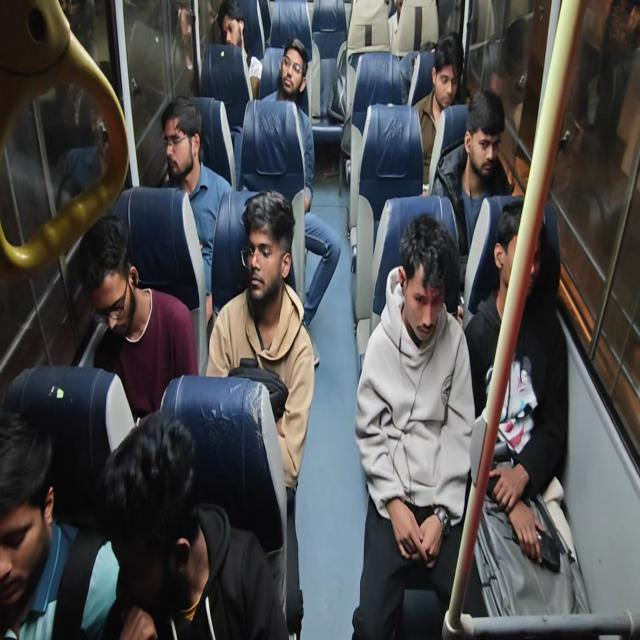person: (351, 213, 476, 638), (462, 199, 584, 616), (205, 189, 315, 636), (99, 409, 290, 639), (0, 408, 121, 639), (78, 213, 198, 423), (260, 39, 341, 337), (430, 88, 516, 292), (160, 95, 232, 321), (412, 31, 465, 187), (217, 0, 263, 101)
